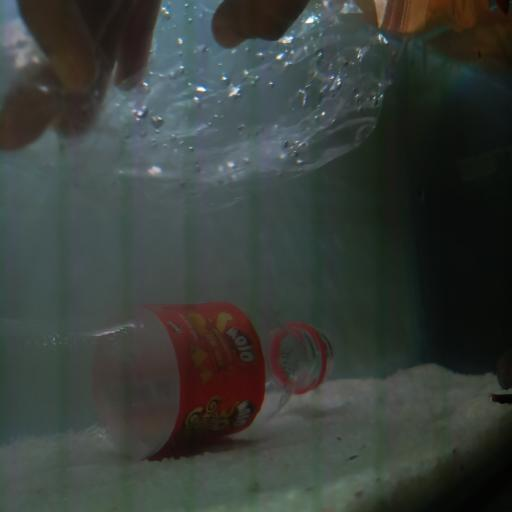mask: (359, 0, 512, 91)
plastic_bag: (22, 0, 396, 194)
plastic_bottle: (3, 305, 339, 457)
